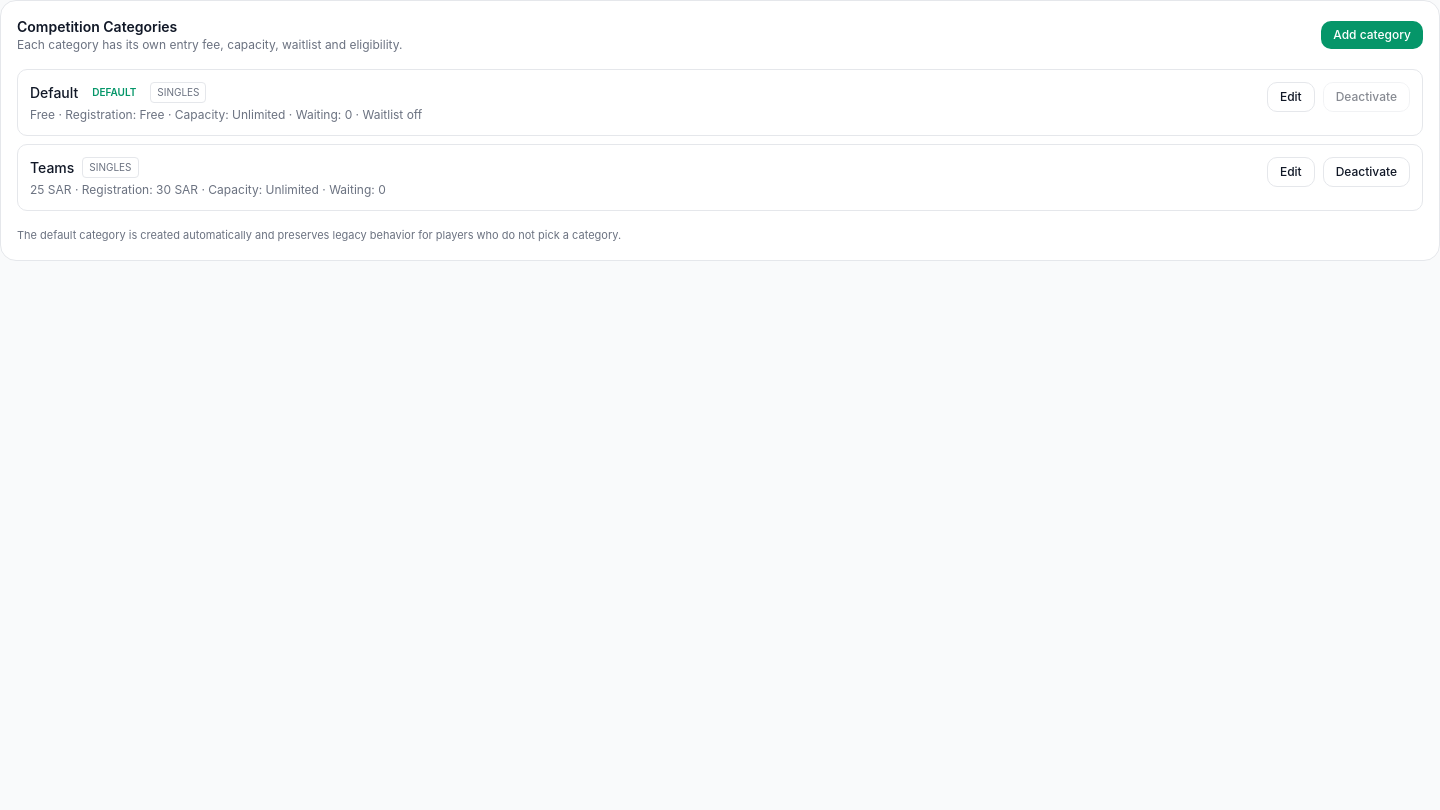
Test case: G11.21.3 — G11.21.1/.2 inheritance and EDIT contract remain intact › keeps EDIT seeding from the stored category values (never the tournament)
Click the button "Edit" in the row of "30 SAR" at (1291, 172), box [1267, 157, 1315, 187]
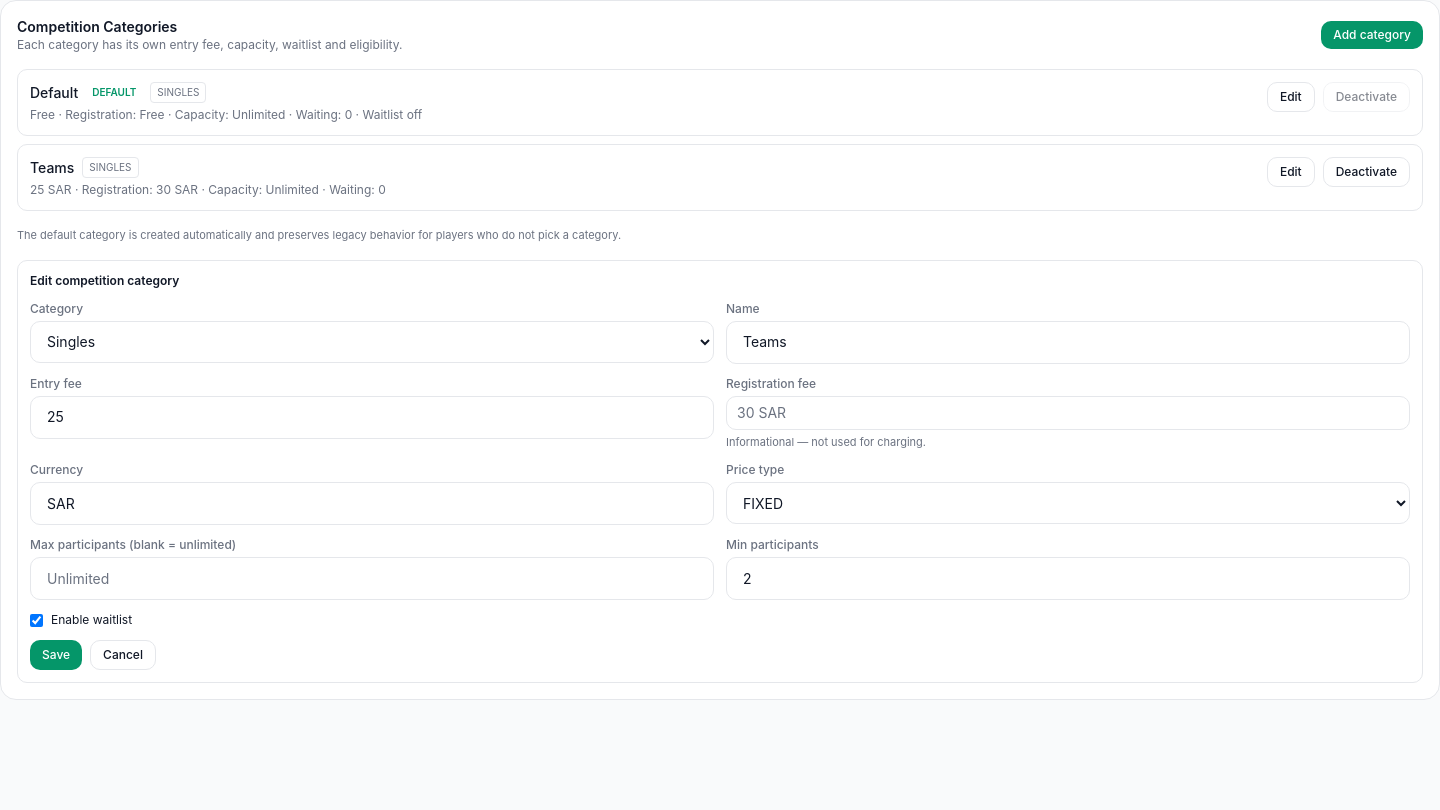
Result: the number field labelled "Entry fee" holds "25" at [30, 396, 714, 438]
Result: the field labelled "Currency" holds "SAR" at [30, 482, 714, 525]
Result: the text with test id "registration-fee-readonly" reads "30 SAR" at [737, 404, 786, 420]
